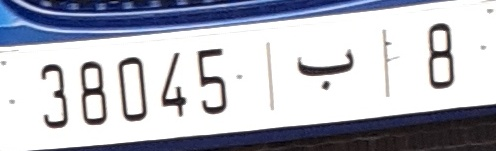0: (116, 54, 150, 124)
3: (39, 62, 70, 129)
4: (159, 51, 187, 116)
5: (195, 46, 228, 114)
8: (426, 20, 458, 92), (77, 59, 108, 127)
b: (295, 48, 358, 92)
